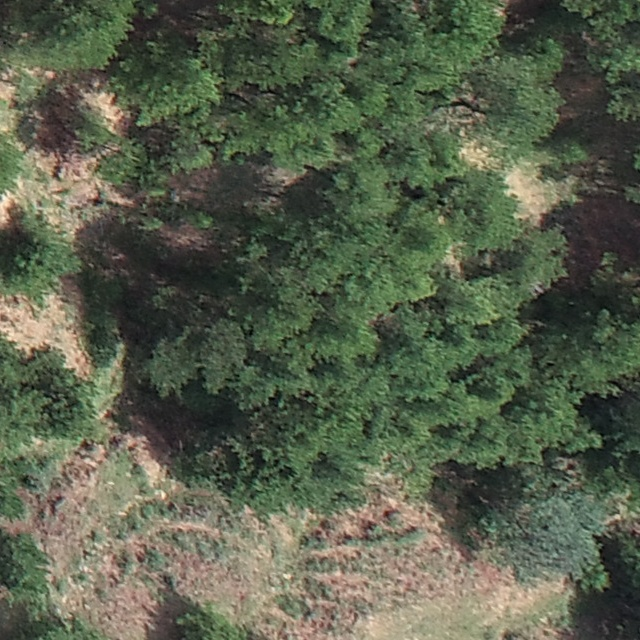unhealthy: (156, 221, 215, 253), (170, 165, 218, 203), (253, 163, 303, 193), (243, 196, 283, 217)
